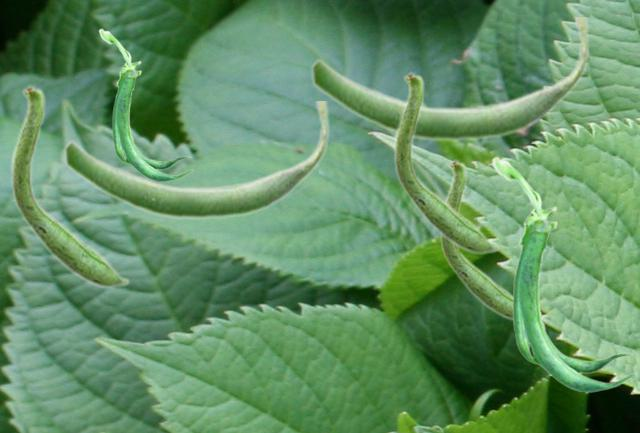french_bean: (310, 17, 589, 142), (491, 156, 635, 392), (63, 101, 329, 220), (10, 83, 129, 288), (393, 70, 499, 254), (98, 28, 192, 181), (439, 158, 511, 320)
